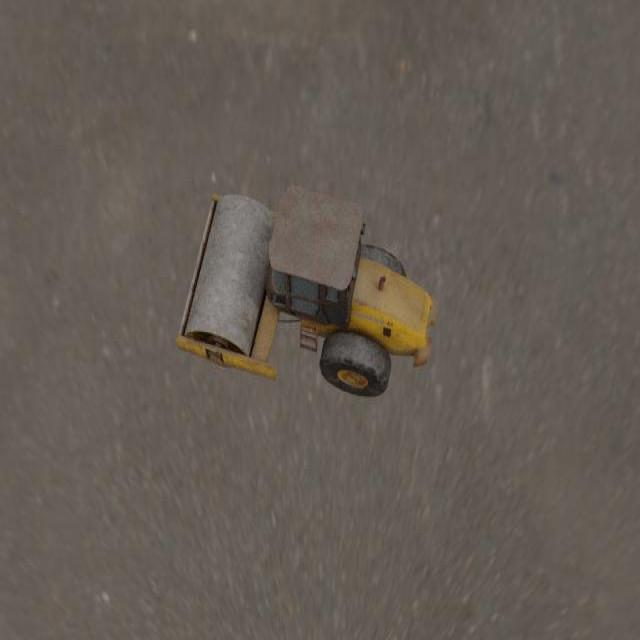Roller: (175, 183, 438, 397)
